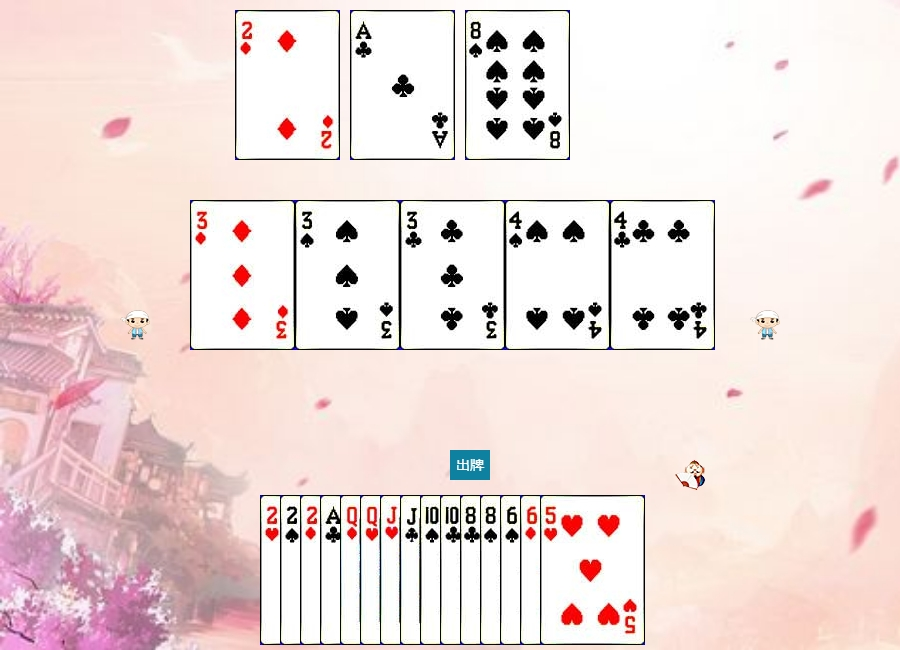10~2: (440, 495, 545, 645)
10~4: (420, 495, 525, 645)
11~2: (400, 495, 505, 645)
11~3: (380, 495, 485, 645)
12~1: (340, 495, 445, 645)
12~3: (360, 495, 465, 645)
14~2: (350, 10, 455, 160), (320, 495, 425, 645)
15~1: (235, 10, 340, 160), (300, 495, 405, 645)
15~3: (260, 495, 365, 645)
15~4: (280, 495, 385, 645)
3~1: (190, 200, 295, 350)
3~2: (400, 200, 505, 350)
3~4: (295, 200, 400, 350)
4~2: (610, 200, 715, 350)
4~4: (505, 200, 610, 350)
5~3: (540, 495, 645, 645)
6~1: (520, 495, 625, 645)
6~4: (500, 495, 605, 645)
8~2: (460, 495, 565, 645)
8~4: (465, 10, 570, 160), (480, 495, 585, 645)
